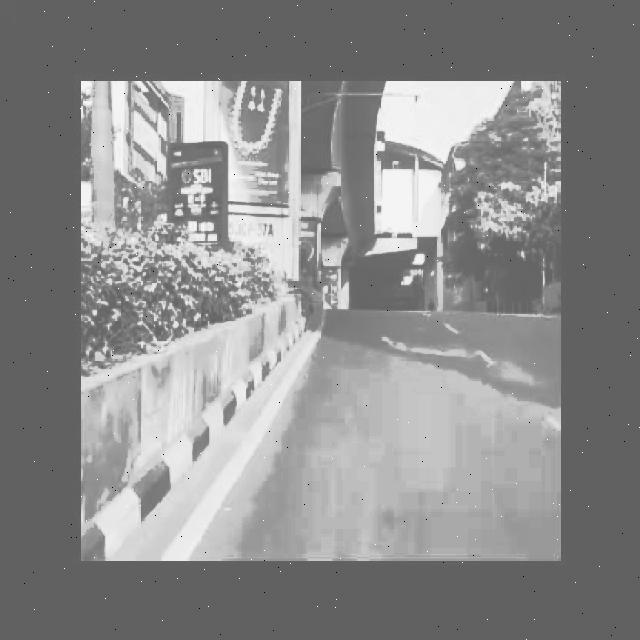Car: (384, 188, 562, 418)
